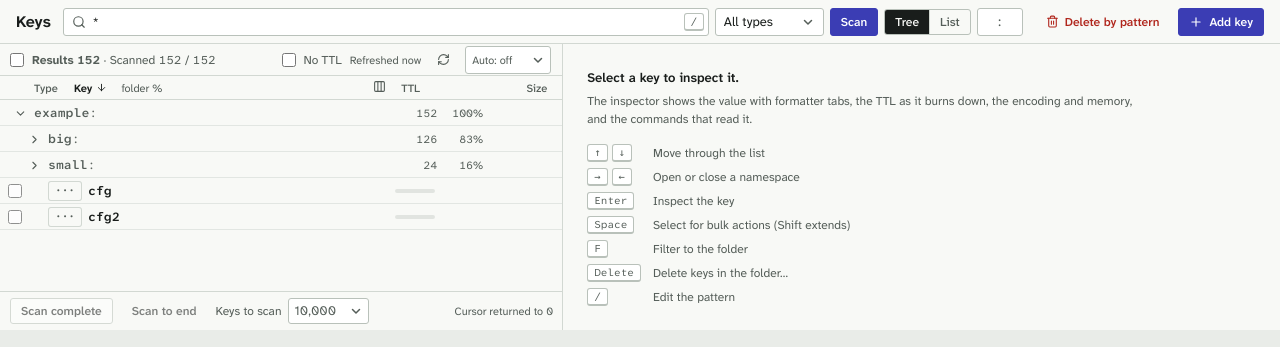
Test: key browser v0.2.1 › loads type, TTL and size lazily for rows coming into view, with placeholders until then
This screenshot has width=1280, height=347.
Click the list item with test id "key-folder" showing "small: 24 16%" at (282, 165), box [0,152,563,178]
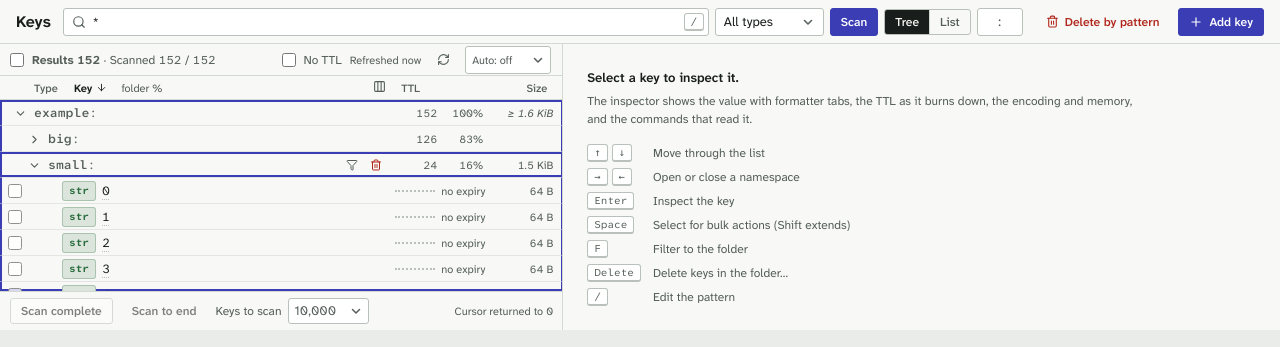
Check: the list item with test id "key-folder" shows "1.5 KiB", box [518,158,553,172]
